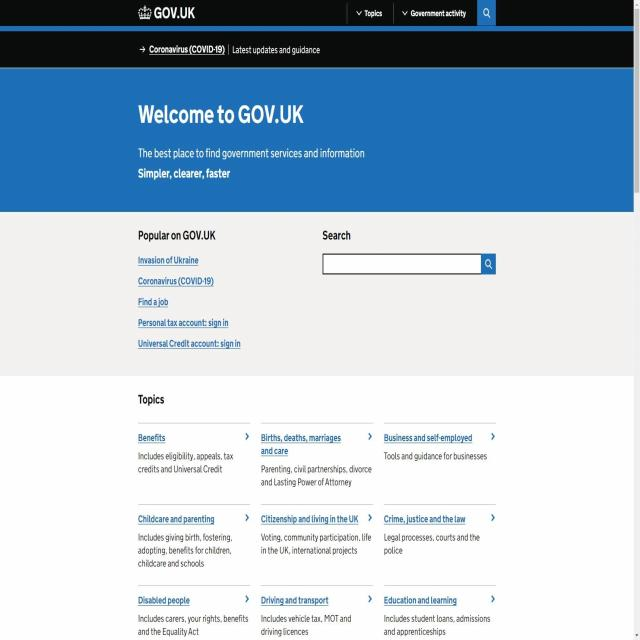button: (478, 1, 495, 25)
select: (400, 7, 467, 20), (355, 7, 384, 21)
